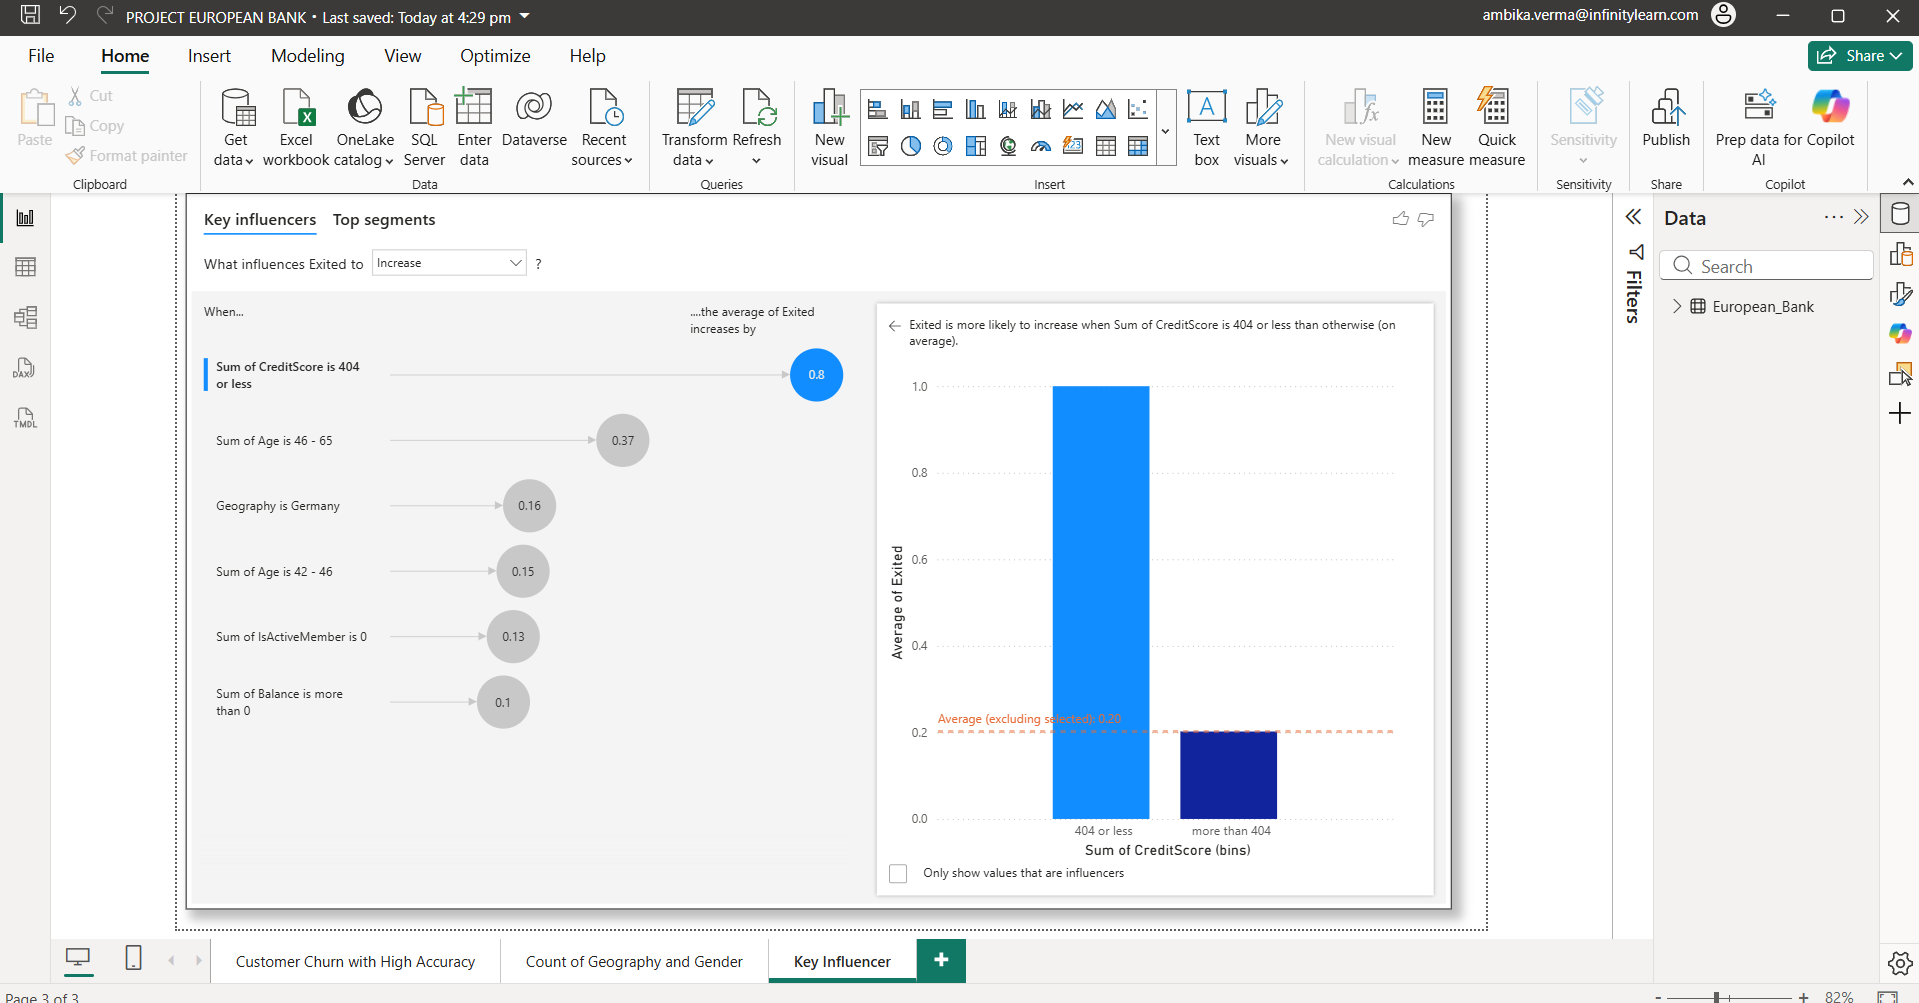

This screenshot's page, from the dashboard's own definition file:
{"tool":"powerbi","page":{"name":"Key Influencer","canvas":[1280,720],"ordinal":2},"visuals":[{"type":"keyDriversVisual","fields":{"ExplainBy":["Sum(European_Bank.CreditScore)","Sum(European_Bank.Age)","Sum(European_Bank.Balance)","Sum(European_Bank.IsActiveMember)","European_Bank.Geography"],"Target":["European_Bank.Exited"]},"box":[9,0,1238.8,701.2],"z":0}]}

Visuals, with their boxes on the page's 1280x720 design canvas (x1, y1, x2, y2). These are canvas units, not pixel positions in the 1919x1003 screenshot, which may show the page scaled, cropped or inside an application window:
keyDriversVisual - Sum(European_Bank.CreditScore) x Sum(European_Bank.Age): l=9, t=0, r=1248, b=701
